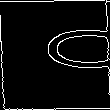O_W: (2, 33, 108, 77)
